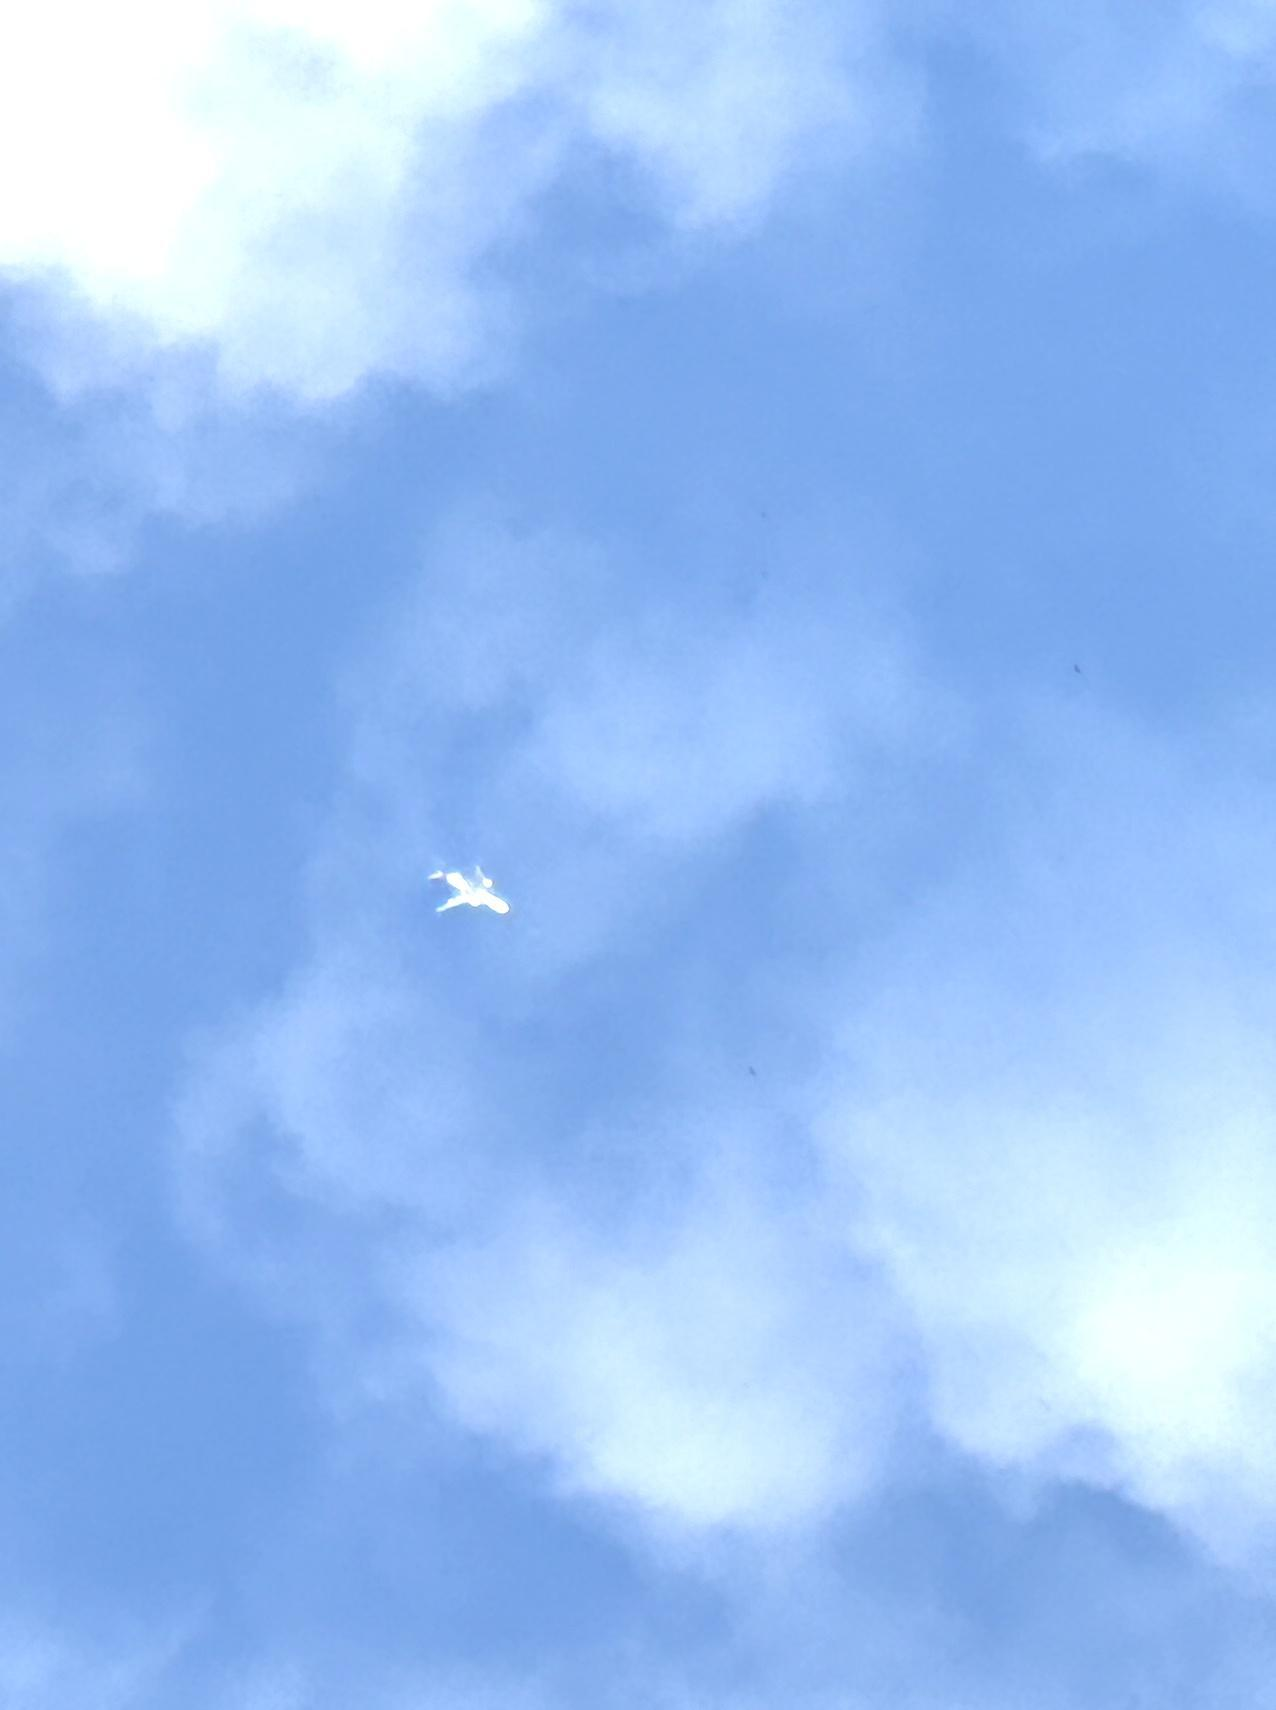Plane: (405, 827, 540, 953)
